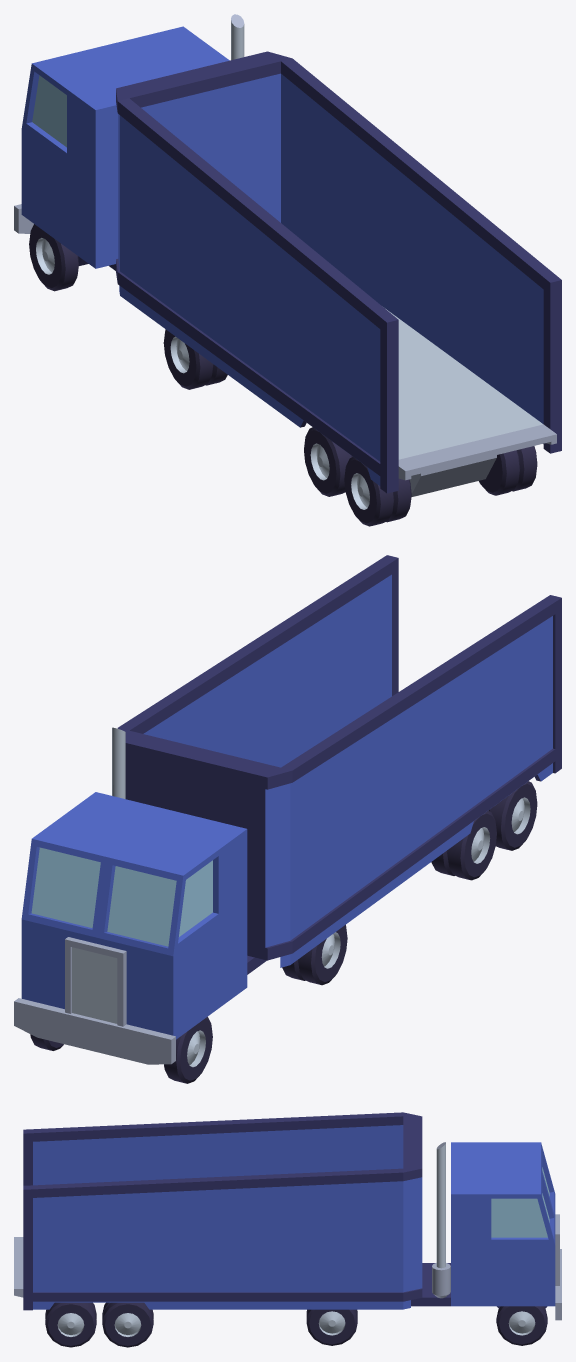
Rendered from Truck_N_Whole.fbx.
The picture shows the model from 3 angles, top to bottom: view 1: azimuth 30°, elevation 25°; view 2: azimuth 150°, elevation 25°; view 3: azimuth 270°, elevation 25°; orthographic projection. The views are drawn at different scales.
Visible parts, largest first — view 1: Trailer, Cab, WheelB, WheelB1, WheelS, WheelB2, WheelB003, TrailerSkeleton; view 2: Trailer, Cab, CabBumper, WheelB1, WheelB, WheelB2, WheelS, Smoker; view 3: Trailer, Cab, WheelB003, WheelB004, Smoker, WheelS001, WheelB005, CabSkeleton, CabBumper.
Boxes of the visible parts, <box> form: Trailer: <box>116,51,561,493</box>; Cab: <box>21,26,229,268</box>; WheelB: <box>344,457,411,526</box>; WheelB1: <box>304,427,352,496</box>; WheelS: <box>29,224,78,291</box>; WheelB2: <box>163,329,227,389</box>; WheelB003: <box>479,446,537,495</box>; TrailerSkeleton: <box>409,455,496,497</box>; Trailer: <box>117,555,561,967</box>; Cab: <box>21,792,247,1039</box>; CabBumper: <box>14,998,175,1064</box>; WheelB1: <box>431,811,496,880</box>; WheelB: <box>488,781,537,850</box>; WheelB2: <box>282,924,347,985</box>; WheelS: <box>164,1016,212,1083</box>; Smoker: <box>112,727,125,798</box>; Trailer: <box>14,1112,422,1310</box>; Cab: <box>451,1142,559,1306</box>; WheelB003: <box>45,1302,96,1347</box>; WheelB004: <box>102,1302,153,1347</box>; Smoker: <box>432,1142,450,1298</box>; WheelS001: <box>496,1306,547,1345</box>; WheelB005: <box>306,1309,357,1345</box>; CabSkeleton: <box>411,1263,547,1308</box>; CabBumper: <box>555,1249,561,1320</box>.
Size of the model in its own units: 7.5 by 11.53 by 28.85.
